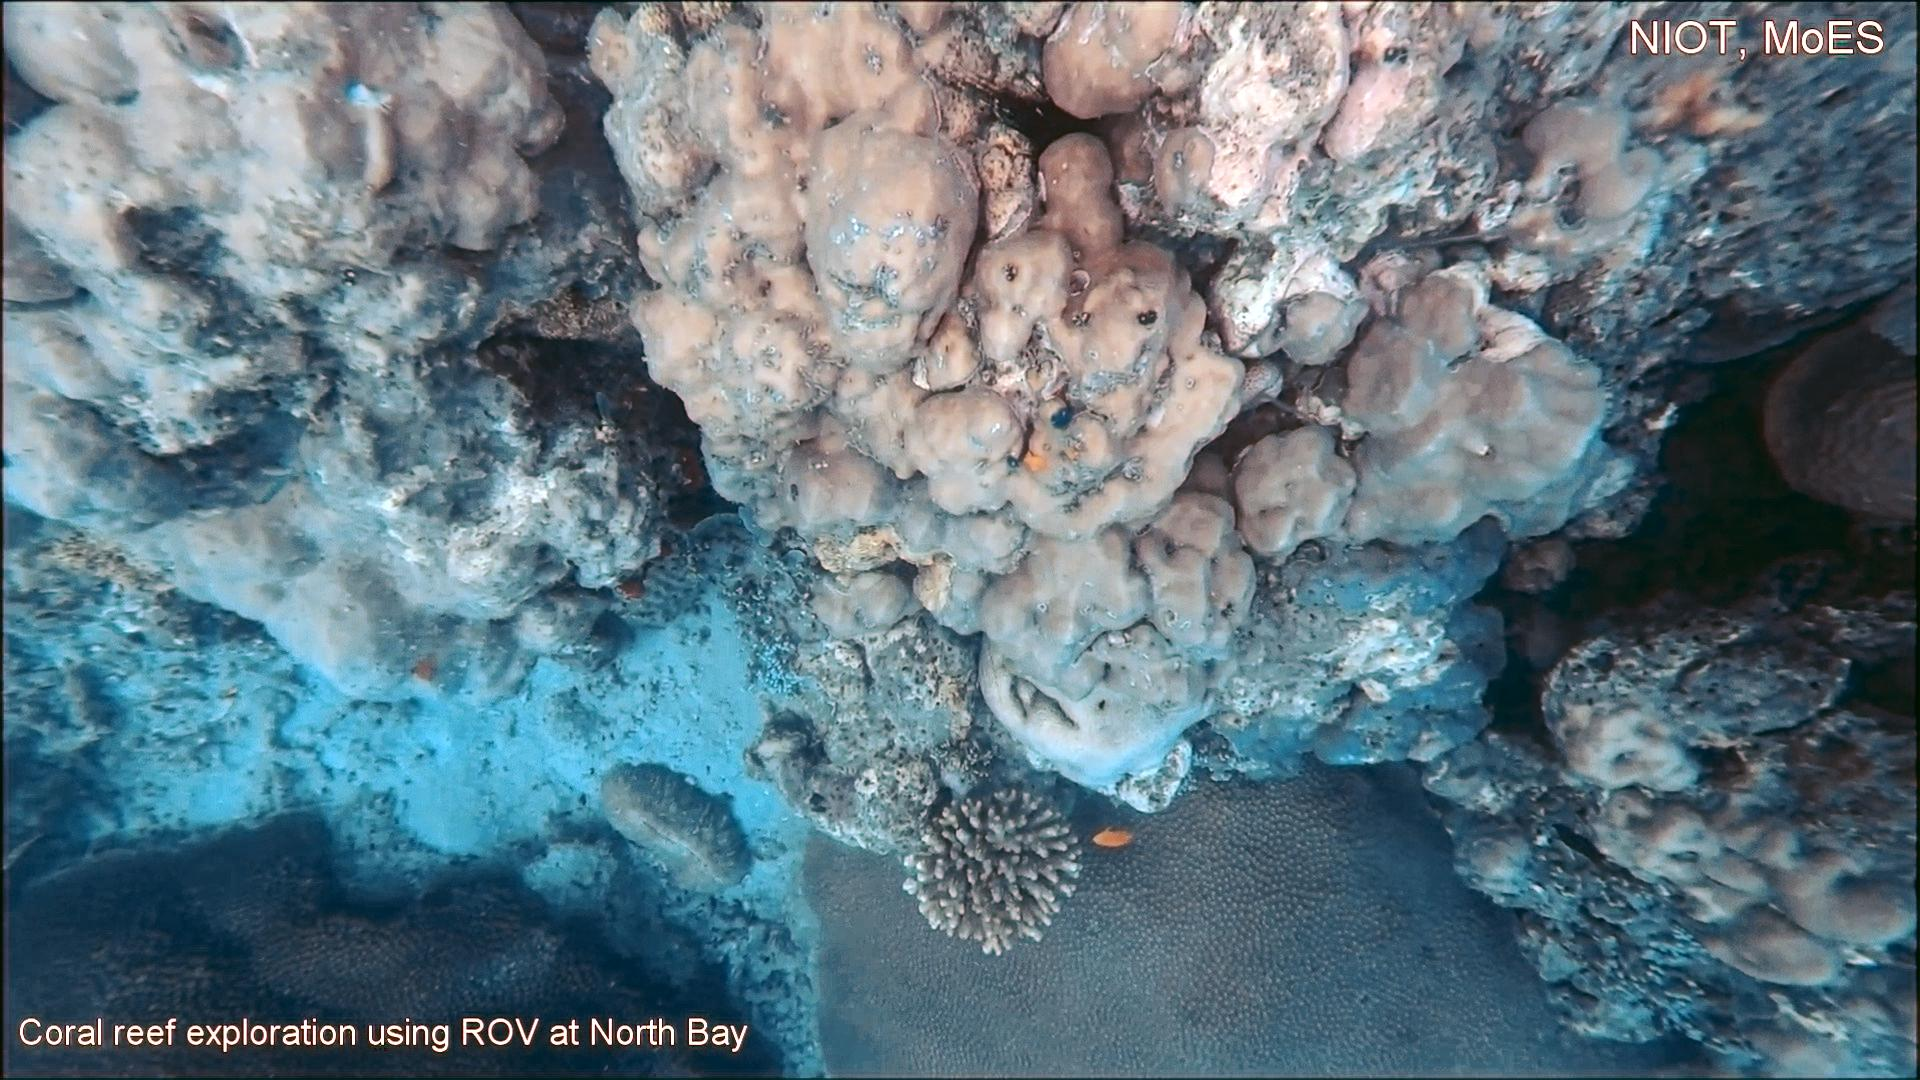Meandrina meandrites: (1754, 313, 1920, 533)
